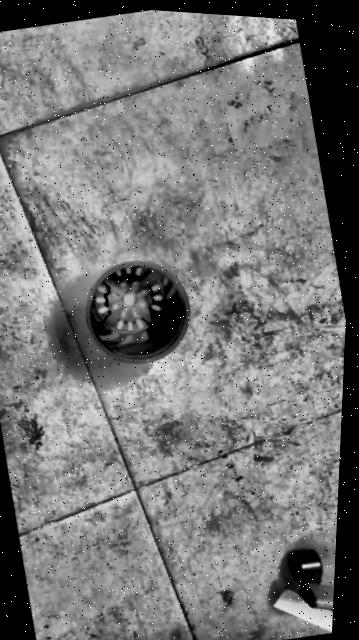pot: (70, 246, 200, 377)
